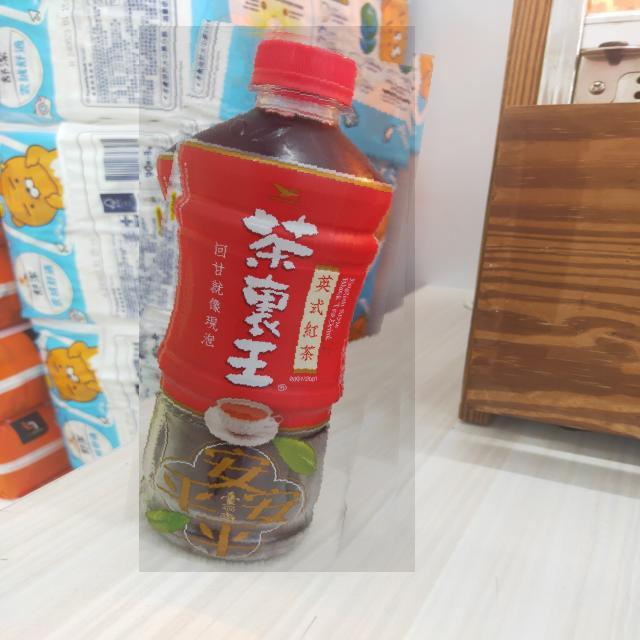ChaLiWong_BritainBlackTea: (140, 26, 416, 572)
